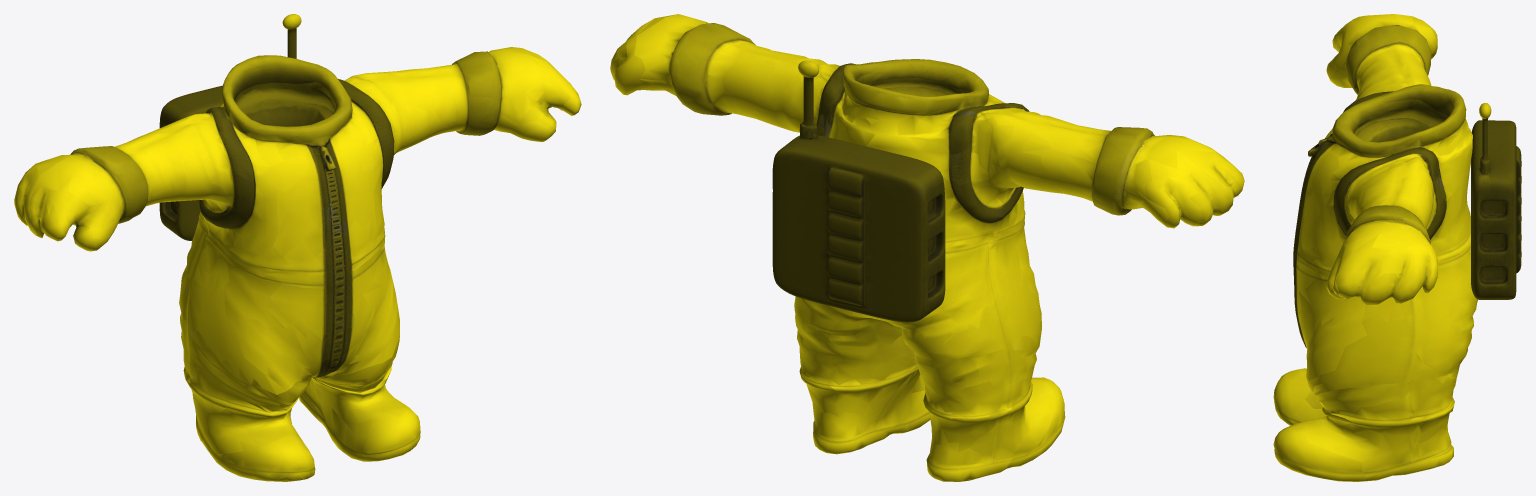
The model's file is Spacesuit-Gold.glb.
3 views of the same model, side by side, from view 1: azimuth 30°, elevation 25°; view 2: azimuth 150°, elevation 25°; view 3: azimuth 270°, elevation 25° (orthographic). The views are drawn at different scales.
Parts seen in each view (by area): view 1: Spacesuit-Gold; view 2: Spacesuit-Gold; view 3: Spacesuit-Gold.
Part boxes in pixels (bbox=[...]): Spacesuit-Gold: bbox=[14, 14, 581, 481]; Spacesuit-Gold: bbox=[610, 14, 1244, 481]; Spacesuit-Gold: bbox=[1273, 14, 1521, 481].
Size of the model in its own units: 1.02 by 0.6779 by 0.4172.
Materials: 2 (2 with a texture image).
